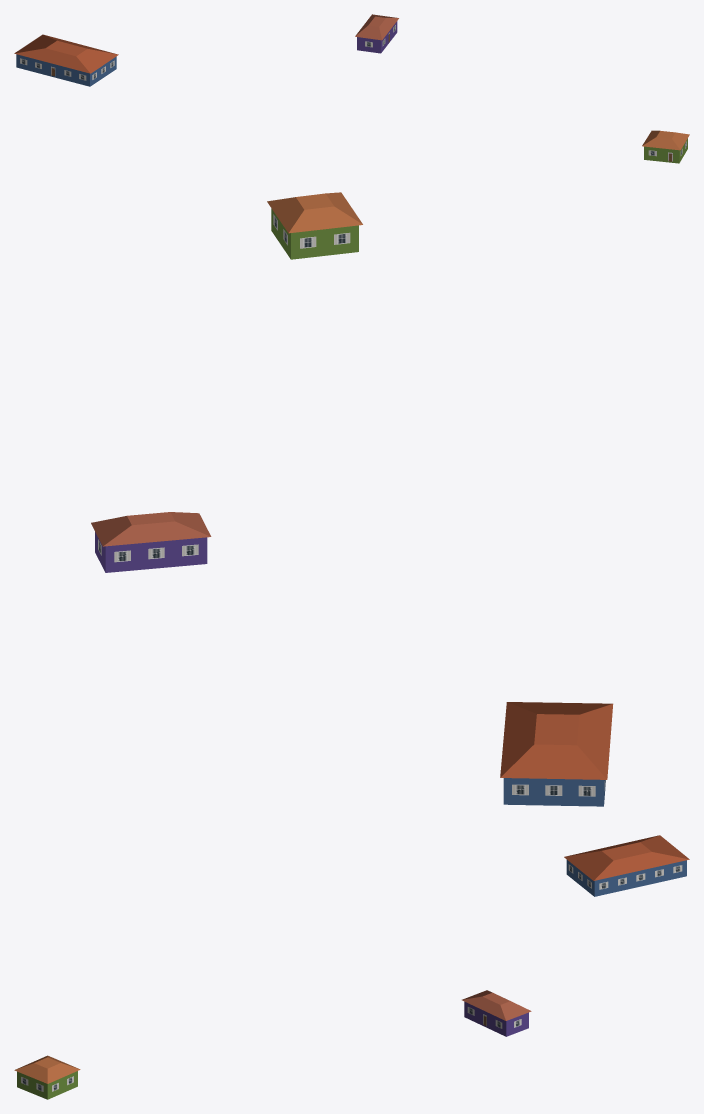
The model's file is msb_oranjestad_m23_m4.glb.
3 renders of one model, top to bottom at view 1: azimuth 30°, elevation 25°; view 2: azimuth 150°, elevation 25°; view 3: azimuth 270°, elevation 25°, orthographic. The views are drawn at different scales.
Visible parts, largest first — view 1: msb_oranjestad_m23_m4_lod0; view 2: msb_oranjestad_m23_m4_lod0; view 3: msb_oranjestad_m23_m4_lod0.
Boxes of the visible parts, bbox=[...] form: msb_oranjestad_m23_m4_lod0: bbox=[14, 14, 689, 163]; msb_oranjestad_m23_m4_lod0: bbox=[91, 192, 613, 806]; msb_oranjestad_m23_m4_lod0: bbox=[14, 835, 689, 1099].
Size of what is drawn, in the model's own units: 110 by 5.77 by 126.
2 materials, 1 textured.
